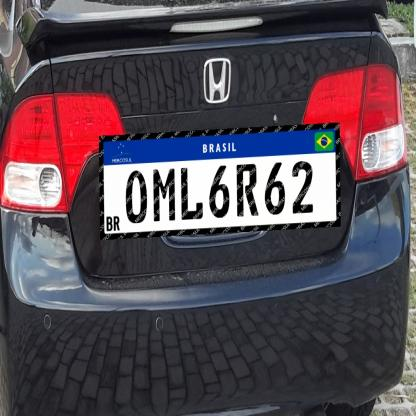PlacaM: (99, 122, 341, 240)
